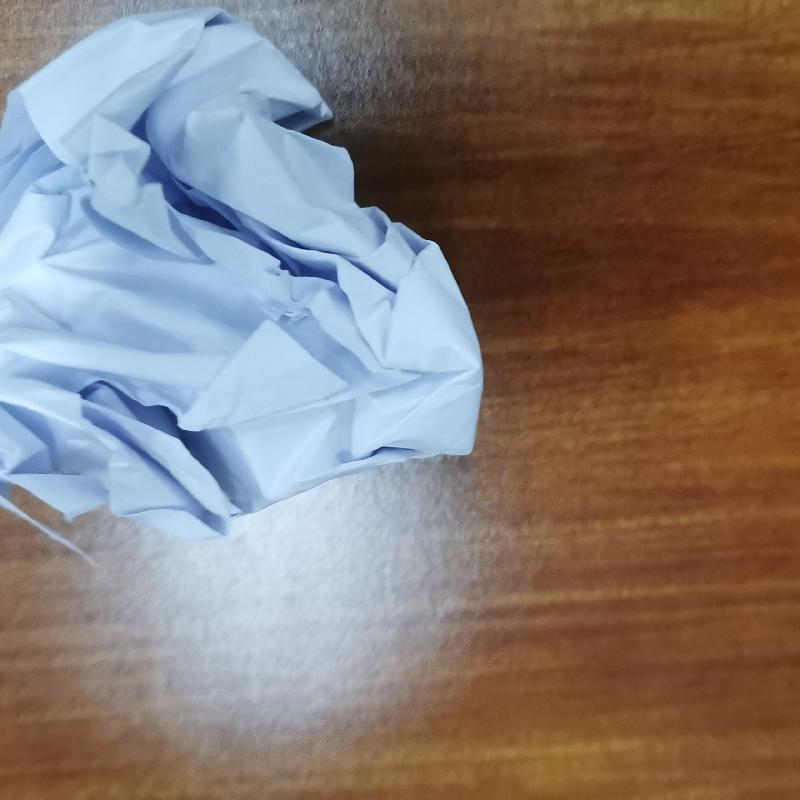spitball: (3, 7, 485, 568)
